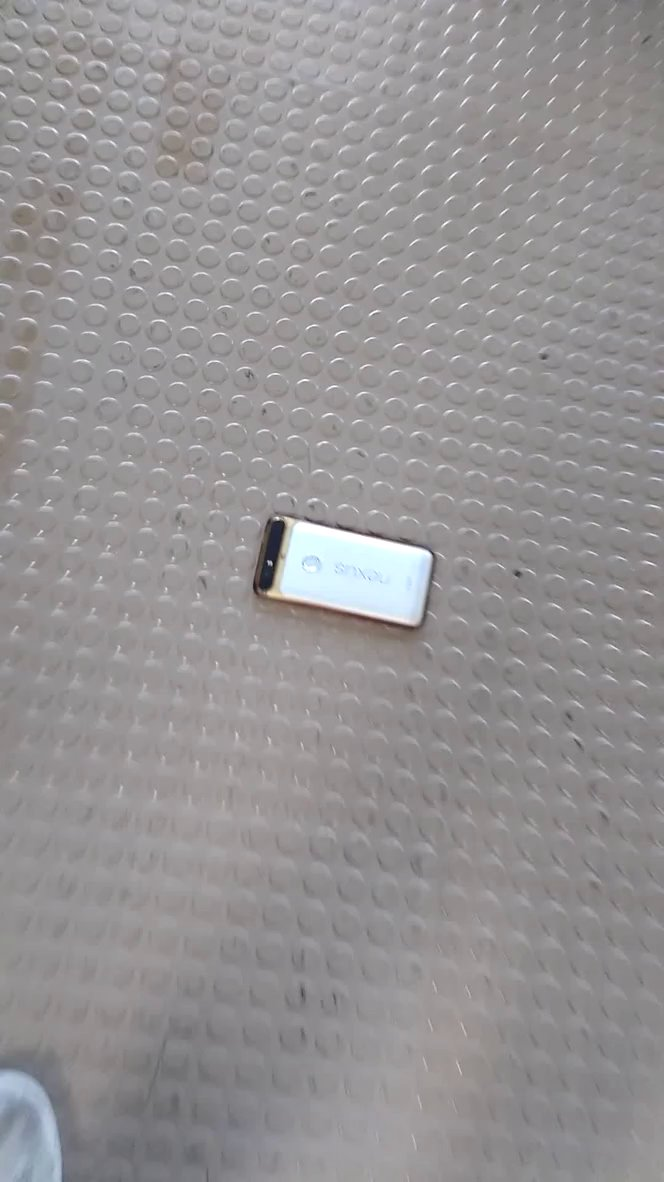phone: (243, 506, 462, 644)
